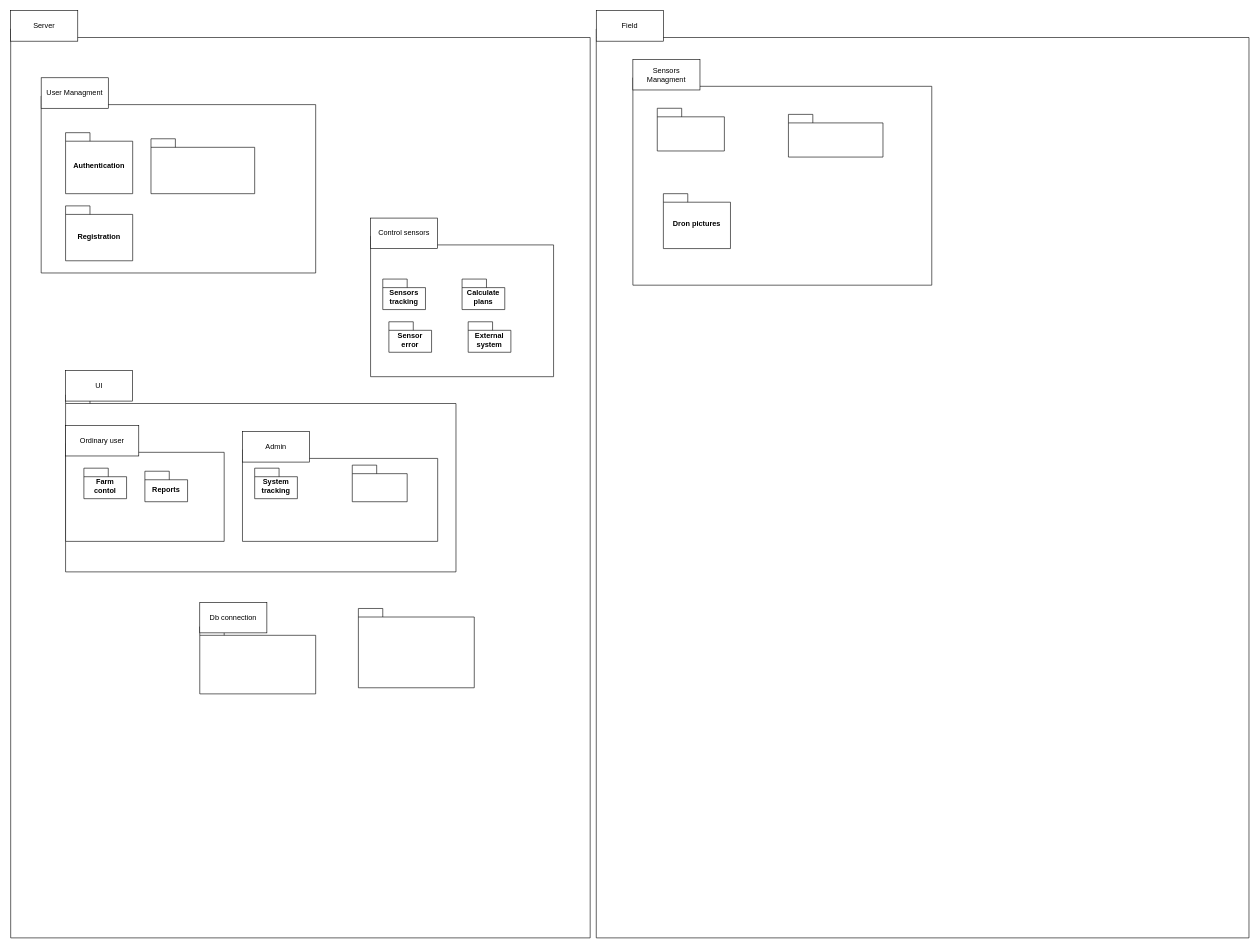
The diagram is 1260 pixels wide and 949 high, and some of its shapes have lost their labels. The centre of each missing label's shape, as x and y in pixels:
"Add new sensor" belongs at point (835, 135).
"Authorization" belongs at point (202, 166).
"Measurements" belongs at point (690, 129).
"Synchronization" belongs at point (416, 648).
"User approval" belongs at point (379, 483).
